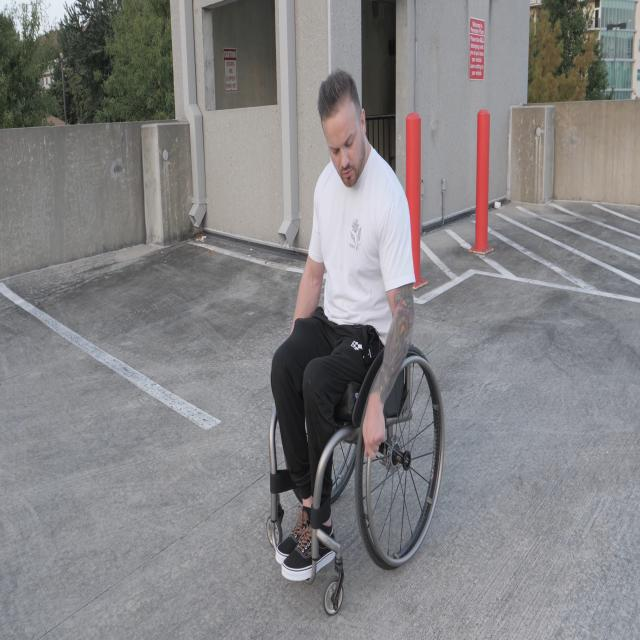wheelchairs: (266, 247, 445, 615)
